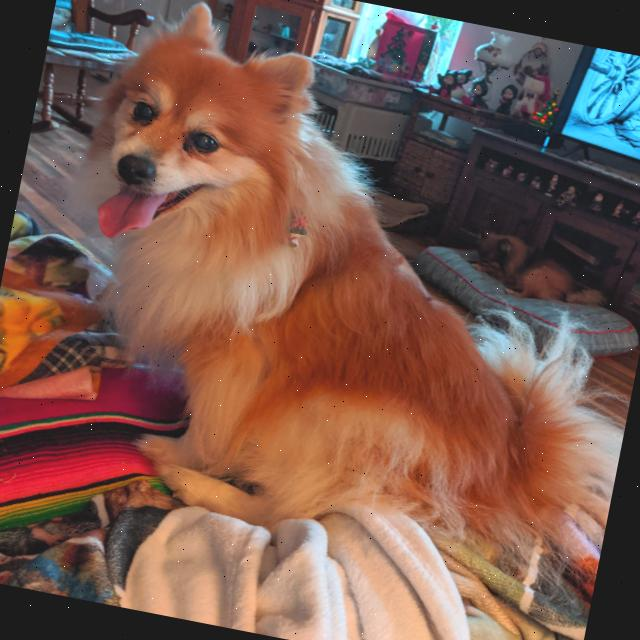pomeranian_dog: (56, 0, 350, 304)
